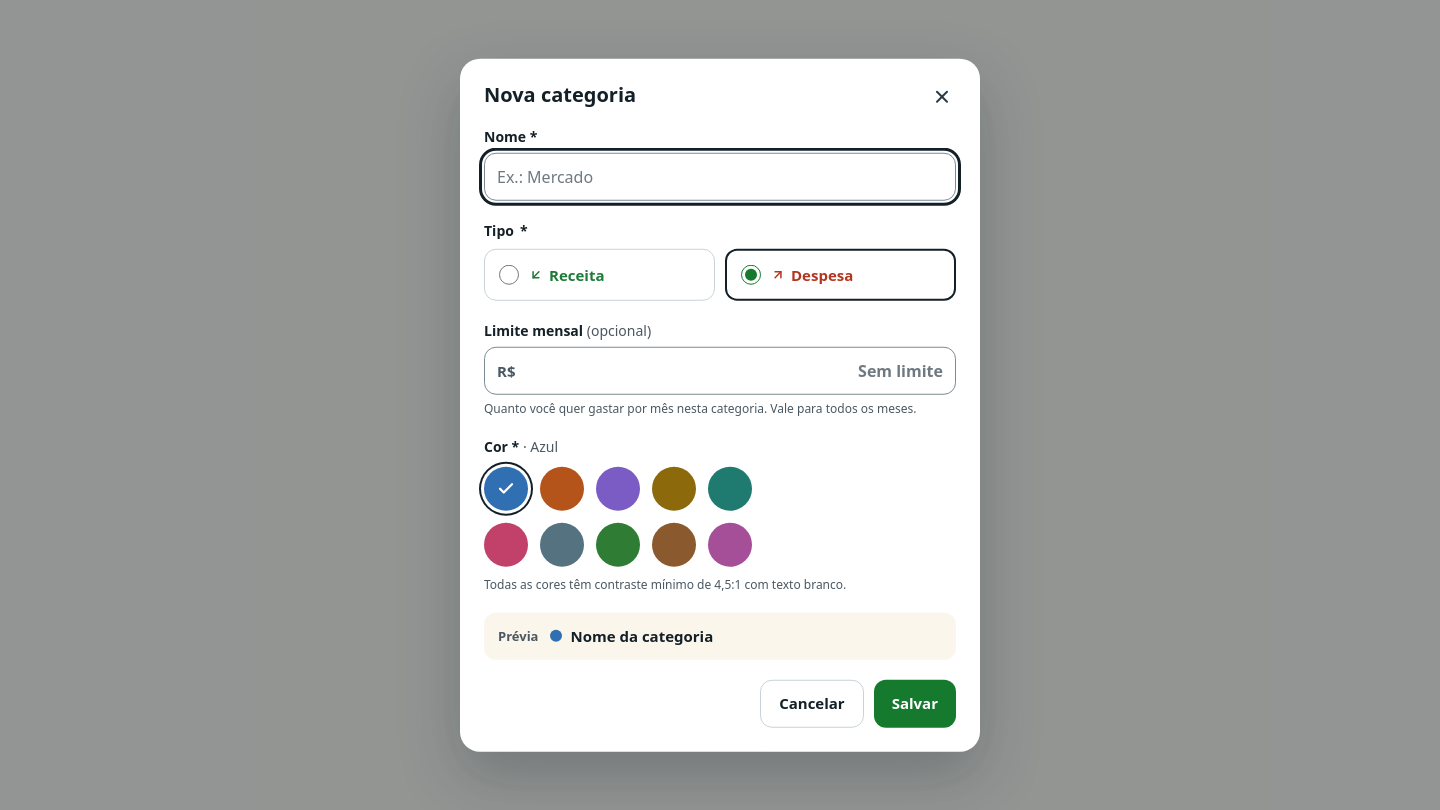
Test case: CategoriaModal — limite mensal › mostra o campo só para despesa
Expected: the field labelled "Limite mensal (opcional)" is shown, [524,348,943,394]
Click the radio button labelled "Receita" at point(509, 275), box [499,265,519,285]
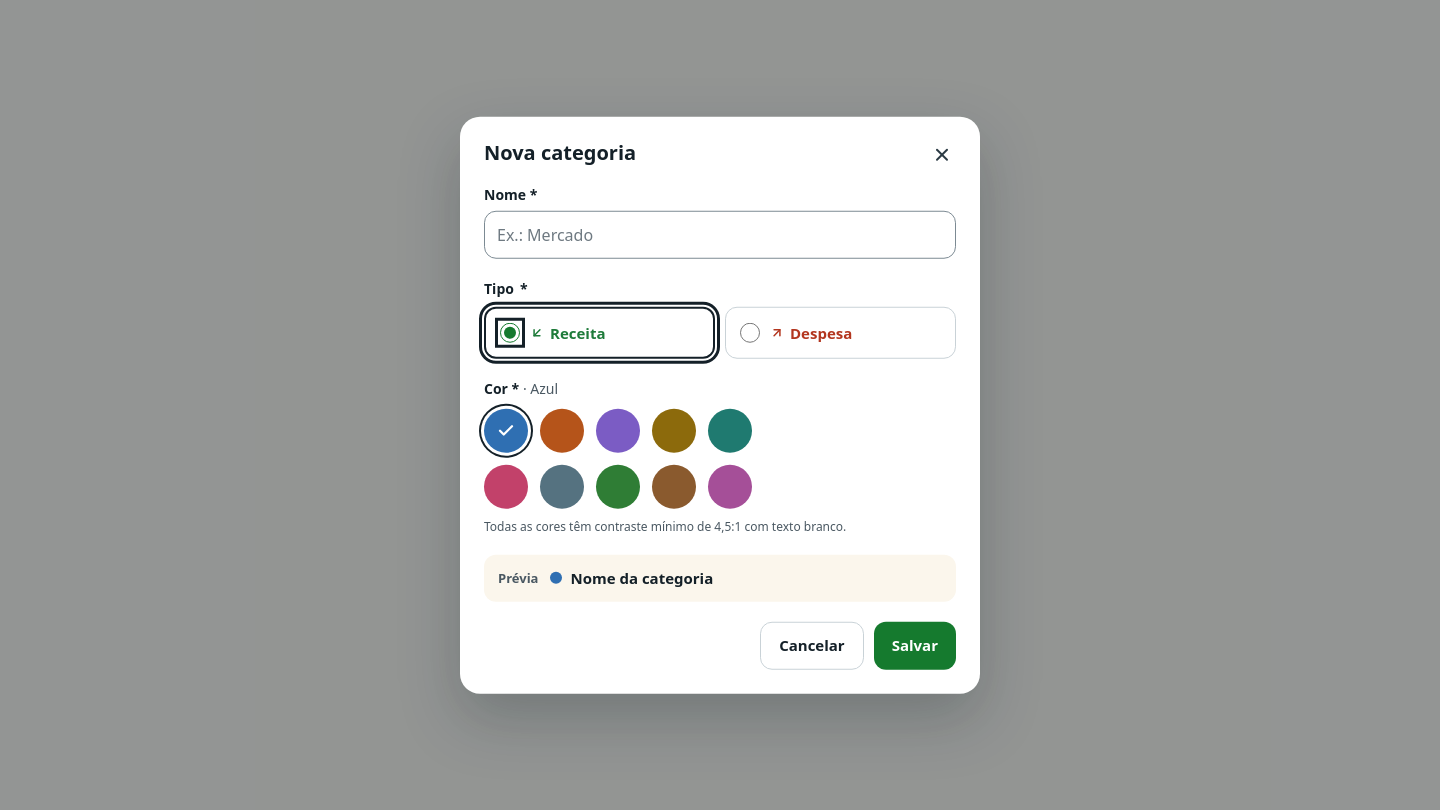
Now the label labelled "Limite mensal" is gone
